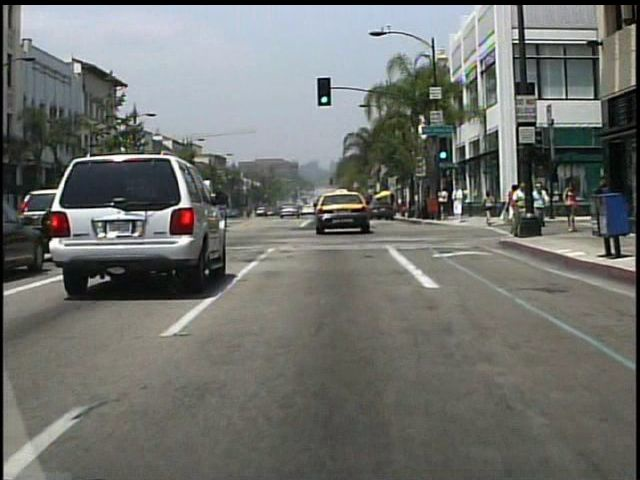person: (500, 182, 523, 238), (510, 180, 531, 239), (561, 181, 579, 232), (533, 181, 551, 230), (532, 182, 550, 220), (516, 190, 530, 228), (482, 190, 495, 227), (454, 186, 466, 225), (437, 184, 449, 221)
